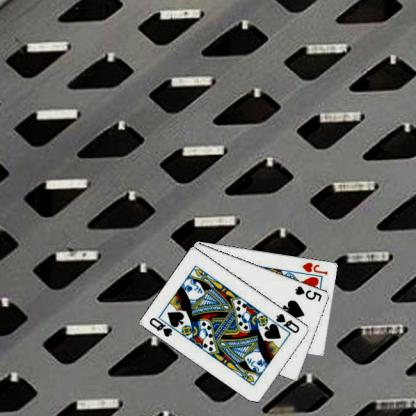5S: (293, 283, 323, 303)
JH: (299, 259, 329, 276)
QS: (273, 311, 301, 335), (147, 315, 174, 338)
